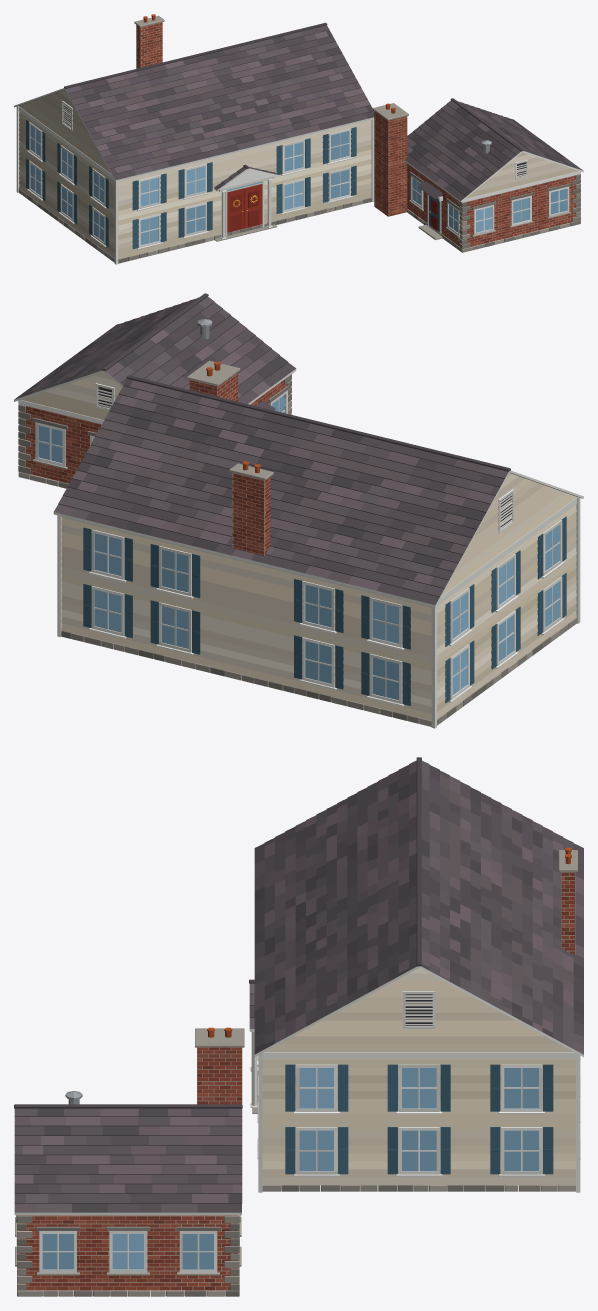
The model's file is TurkeyRace_LowPolyOutsides.glb.
3 views of the same model, one above another, from view 1: azimuth 30°, elevation 25°; view 2: azimuth 150°, elevation 25°; view 3: azimuth 270°, elevation 25° (orthographic). The views are drawn at different scales.
Parts seen in each view (by area): view 1: Outside_Dining_Roof, Outside_Dining_Walls, Outside_Dining_Trim, Outside_Kitchen_Walls, Outside_Kitchen_Roof, Outside_Kitchen_Trim; view 2: Outside_Dining_Roof, Outside_Dining_Walls, Outside_Dining_Trim, Outside_Kitchen_Roof, Outside_Kitchen_Walls, Outside_Kitchen_Trim; view 3: Outside_Dining_Roof, Outside_Dining_Walls, Outside_Kitchen_Roof, Outside_Dining_Trim, Outside_Kitchen_Walls, Outside_Kitchen_Trim.
Part boxes in pixels (x1=…): Outside_Dining_Roof: x1=14, y1=22, x2=374, y2=191; Outside_Dining_Walls: x1=16, y1=14, x2=374, y2=264; Outside_Dining_Trim: x1=26, y1=101, x2=356, y2=249; Outside_Kitchen_Walls: x1=372, y1=103, x2=580, y2=252; Outside_Kitchen_Roof: x1=404, y1=98, x2=583, y2=202; Outside_Kitchen_Trim: x1=409, y1=140, x2=571, y2=239; Outside_Dining_Roof: x1=53, y1=375, x2=583, y2=607; Outside_Dining_Walls: x1=57, y1=461, x2=580, y2=728; Outside_Dining_Trim: x1=83, y1=489, x2=566, y2=706; Outside_Kitchen_Roof: x1=14, y1=293, x2=296, y2=404; Outside_Kitchen_Walls: x1=18, y1=360, x2=291, y2=488; Outside_Kitchen_Trim: x1=32, y1=319, x2=289, y2=469; Outside_Dining_Roof: x1=249, y1=757, x2=583, y2=1057; Outside_Dining_Walls: x1=258, y1=847, x2=580, y2=1192; Outside_Kitchen_Roof: x1=14, y1=1104, x2=242, y2=1215; Outside_Dining_Trim: x1=250, y1=991, x2=580, y2=1176; Outside_Kitchen_Walls: x1=17, y1=1027, x2=244, y2=1296; Outside_Kitchen_Trim: x1=15, y1=1091, x2=241, y2=1275.
Bounding box in the file's own units: 1368 × 487 × 1057.
1 material, 1 textured.
